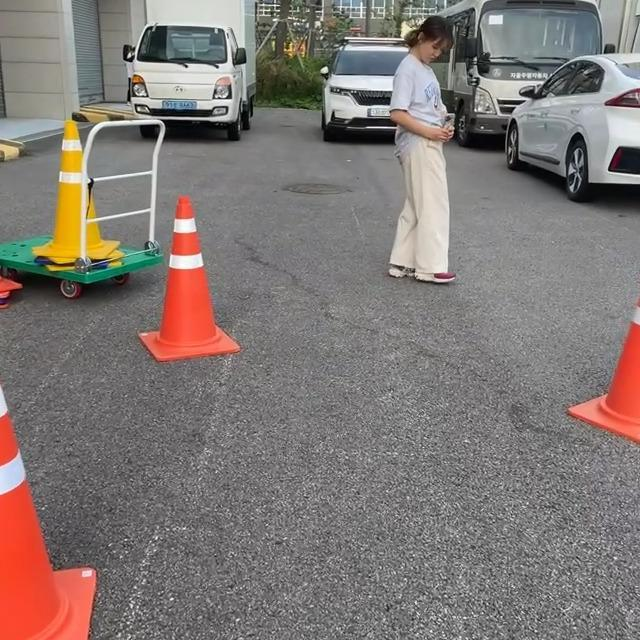fallen_object: (0, 370, 149, 640), (123, 165, 264, 405), (40, 105, 139, 279)
